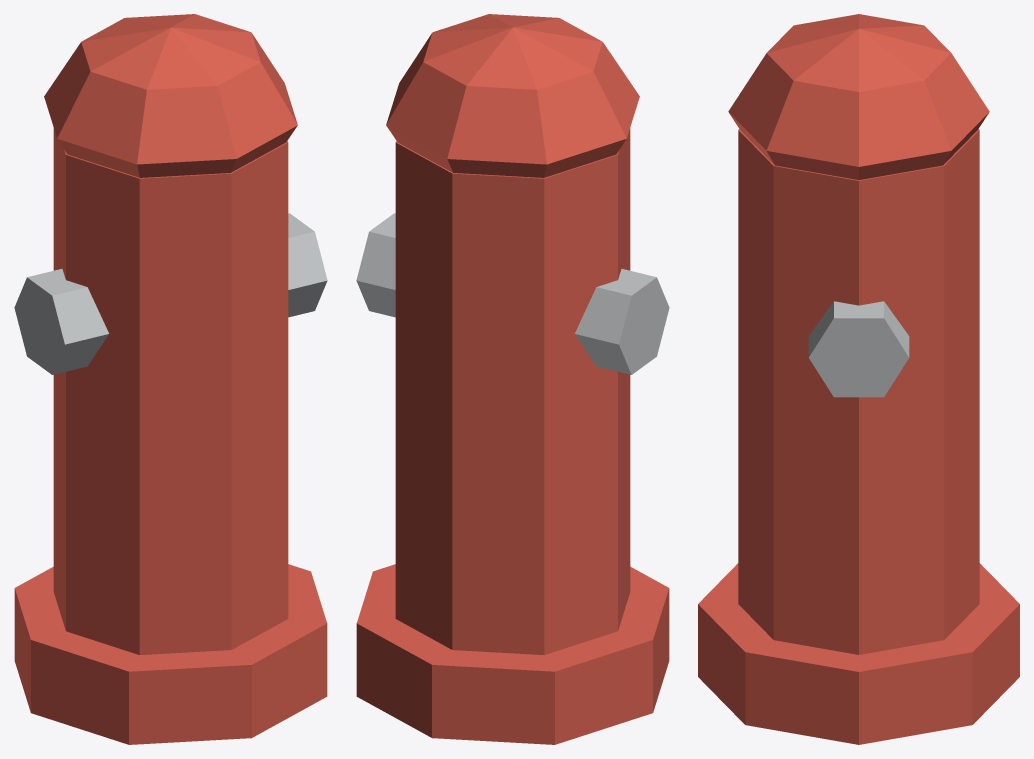
Rendered from hydrant.glb.
The picture shows the model from 3 angles, left to right: view 1: azimuth 30°, elevation 25°; view 2: azimuth 150°, elevation 25°; view 3: azimuth 270°, elevation 25°; orthographic projection.
Parts seen in each view (by area): view 1: hydrant; view 2: hydrant; view 3: hydrant.
Boxes of the visible parts, left/top/right/bottom form: hydrant: left=14, top=14, right=327, bottom=744; hydrant: left=356, top=14, right=669, bottom=744; hydrant: left=698, top=14, right=1019, bottom=744.
Size of the model in its own units: 0.32 by 0.711 by 0.32.
